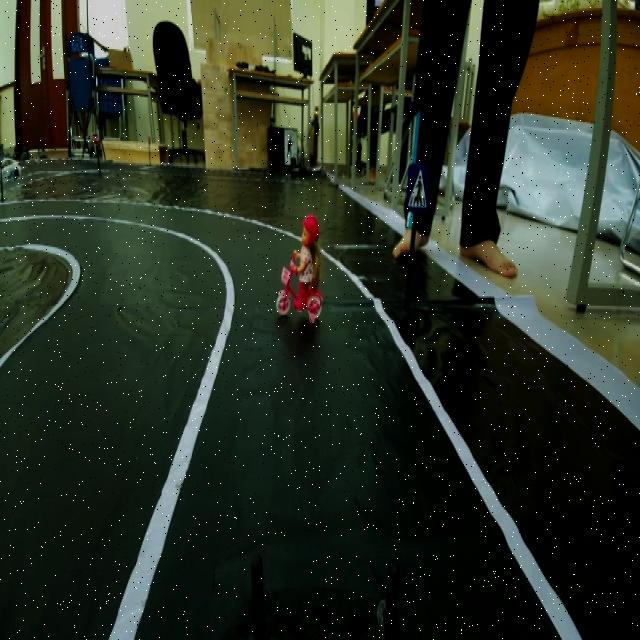crosswalk: (400, 156, 434, 218)
pedestrian: (267, 216, 329, 335)
